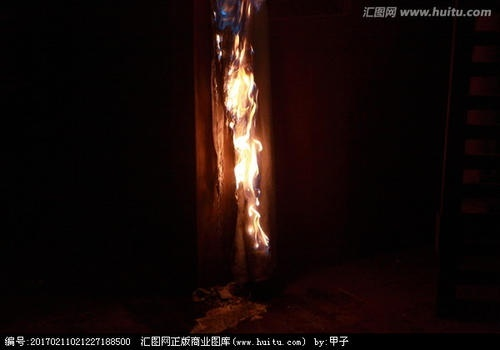fire: (218, 21, 268, 253)
